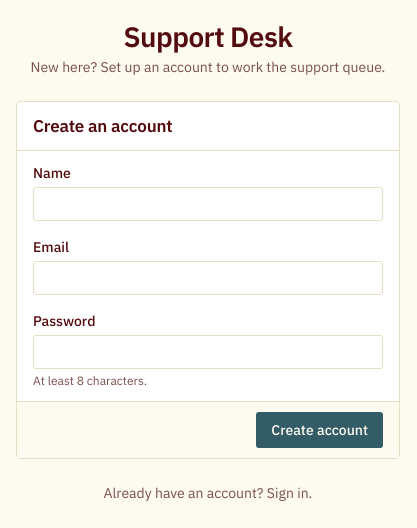
RegisterPage › rejects a password below the length the contract requires
Type "Wren Halloway" into the field labelled "Name". click: [208, 204]
box: [33,187,383,221]
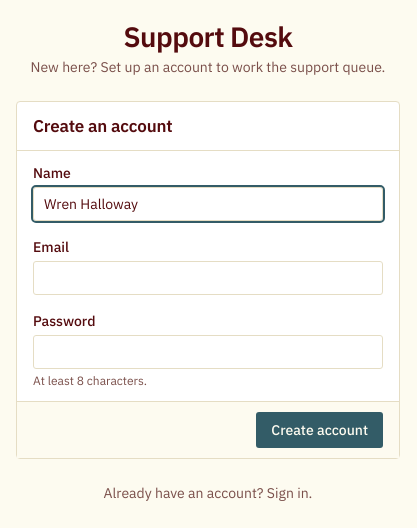
Type "wren.halloway@supportdesk.example" into the field labelled "Email". click: [208, 278]
box: [33,261,383,295]
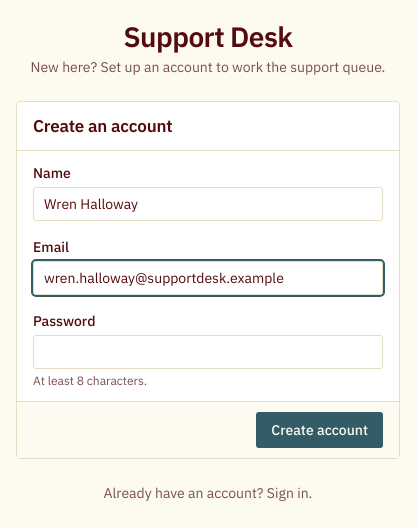
Type "short" into the password field labelled "Password". click: [208, 352]
box: [33,335,383,369]
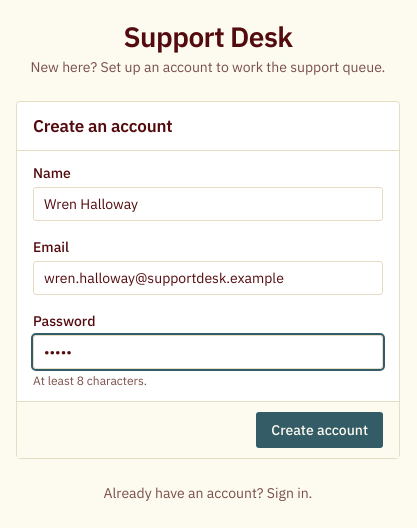
Click the button "Create account". click: [320, 430]
box: [256,412,383,448]
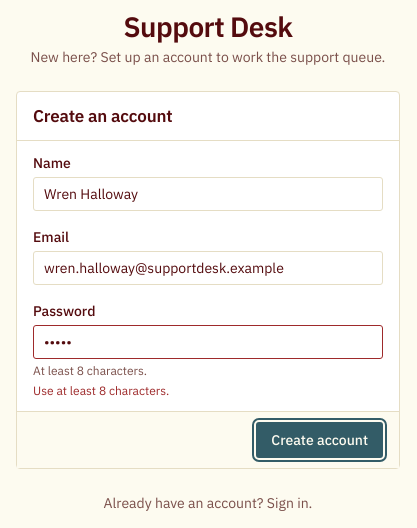
Now the text "Use at least 8 characters." is shown, box [33,383,169,398]
